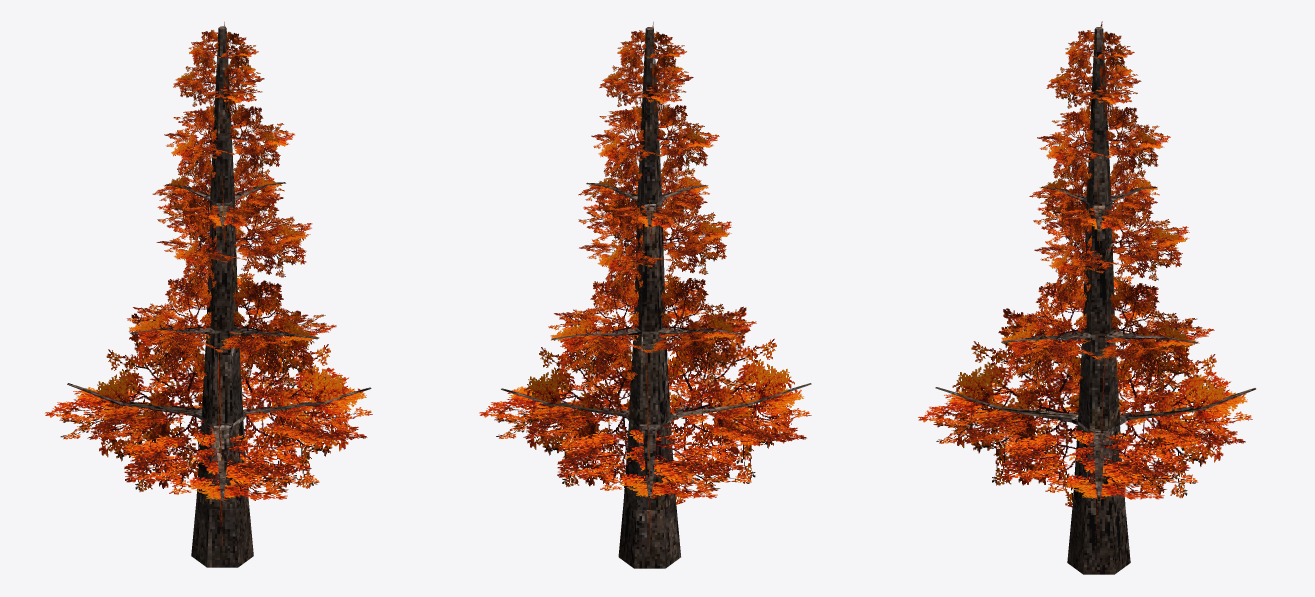
File: pixel_tree_lowpoly_orange.fbx
3 renders of one model, left to right at view 1: azimuth 30°, elevation 25°; view 2: azimuth 150°, elevation 25°; view 3: azimuth 270°, elevation 25°, orthographic.
Visible parts, largest first — view 1: psx_foliage_orange, psx_tree_log, psx_foliage_orange2; view 2: psx_foliage_orange, psx_tree_log, psx_foliage_orange2; view 3: psx_foliage_orange, psx_tree_log, psx_foliage_orange2.
Part boxes in pixels (x1,y1,x2,y2): psx_foliage_orange: (45, 22, 372, 546); psx_tree_log: (67, 26, 371, 567); psx_foliage_orange2: (50, 30, 370, 544); psx_foliage_orange: (479, 22, 811, 547); psx_tree_log: (501, 27, 811, 568); psx_foliage_orange2: (481, 23, 808, 540); psx_foliage_orange: (918, 21, 1252, 548); psx_tree_log: (935, 27, 1255, 574); psx_foliage_orange2: (922, 30, 1251, 528).
Bounding box in the file's own units: 1128 × 1863 × 1302.
